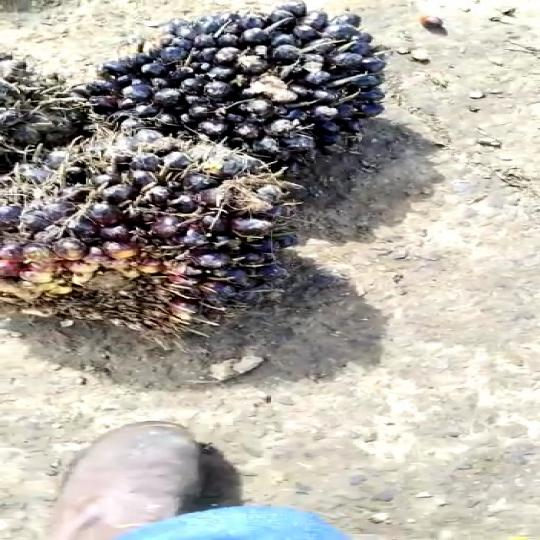mentah: (0, 135, 313, 329), (87, 4, 375, 154)
